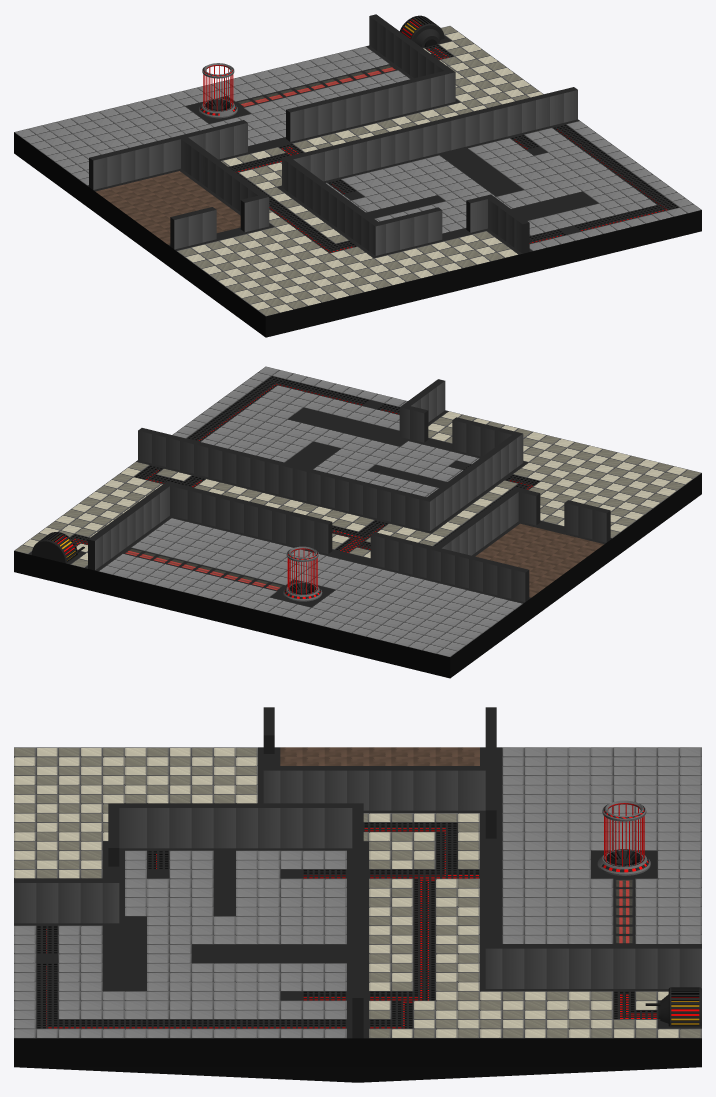
Rendered from VAULT REVAMP.FBX.
3 views of the same model, one above another, from view 1: azimuth 30°, elevation 25°; view 2: azimuth 150°, elevation 25°; view 3: azimuth 270°, elevation 25° (orthographic). The views are drawn at different scales.
Parts seen in each view (by area): view 1: Vault Floor Layout, All rooms Walls, Land Chunk, Wire Cover Grate, Wire Cover Vault, Laser Roof, Generator, Laser Base, Wire 5 Laser; view 2: Vault Floor Layout, All rooms Walls, Land Chunk, Wire Cover Grate, Wire Cover Vault, Generator, Laser Roof, Laser Base, Wire 5 Laser; view 3: Vault Floor Layout, All rooms Walls, Land Chunk, Wire Cover Grate, Laser Roof, Wire Cover Vault, Generator, Laser Base, Wire 4, Wire 5 Laser.
Boxes of the visible parts, x1,y1,x2,y2 form: Vault Floor Layout: (14, 26, 701, 316); All rooms Walls: (89, 14, 577, 255); Land Chunk: (14, 132, 701, 337); Wire Cover Grate: (229, 44, 679, 253); Wire Cover Vault: (236, 64, 397, 107); Laser Roof: (202, 63, 234, 111); Generator: (400, 15, 444, 47); Laser Base: (199, 98, 237, 118); Wire 5 Laser: (241, 48, 448, 106); Vault Floor Layout: (14, 366, 701, 656); All rooms Walls: (88, 379, 610, 601); Land Chunk: (14, 473, 701, 678); Wire Cover Grate: (70, 376, 540, 552); Wire Cover Vault: (123, 547, 285, 591); Generator: (31, 532, 84, 563); Laser Roof: (286, 546, 318, 594); Laser Base: (283, 582, 322, 601); Wire 5 Laser: (73, 539, 279, 590); Vault Floor Layout: (14, 747, 701, 1038); All rooms Walls: (14, 707, 701, 1038); Land Chunk: (14, 1038, 701, 1082); Wire Cover Grate: (36, 822, 657, 1028); Laser Roof: (602, 800, 646, 866); Wire Cover Vault: (613, 878, 635, 943); Generator: (645, 987, 701, 1026); Laser Base: (597, 849, 650, 875); Wire 4: (46, 879, 434, 1028); Wire 5 Laser: (619, 880, 656, 1018).
Bounding box in the file's own units: 31 × 12.24 × 31.
13 materials, 6 textured.
